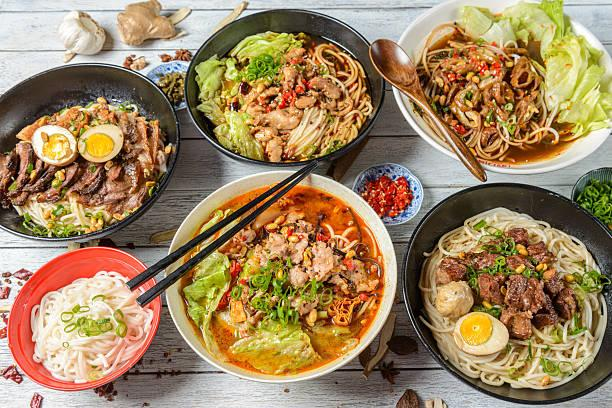Braised Crucian Carp: (164, 170, 391, 381), (399, 182, 609, 403), (396, 0, 608, 175), (0, 63, 179, 241), (184, 7, 381, 168), (6, 246, 159, 391)
